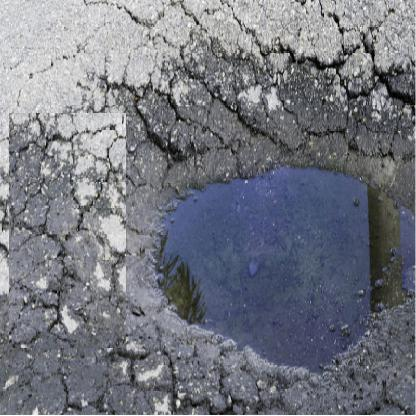crack: (131, 31, 401, 158), (8, 113, 126, 350)
